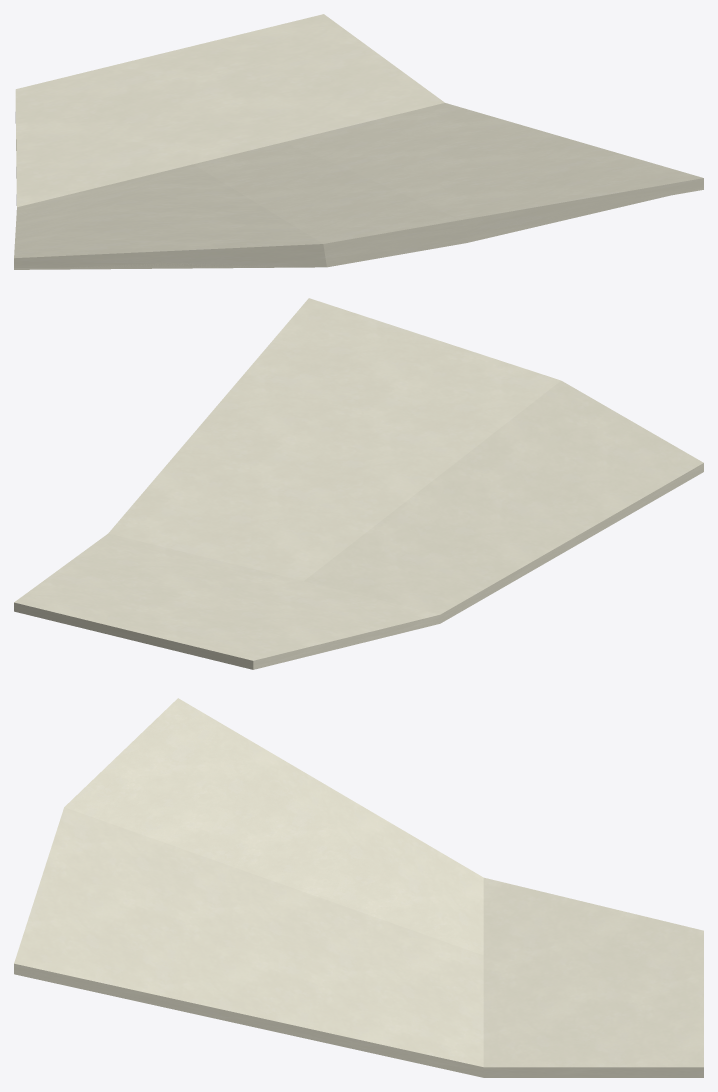
The model's file is idk.fbx.
The picture shows the model from 3 angles, top to bottom: view 1: azimuth 30°, elevation 25°; view 2: azimuth 150°, elevation 25°; view 3: azimuth 270°, elevation 25°; orthographic projection. The views are drawn at different scales.
Visible parts, largest first — view 1: Cube.030; view 2: Cube.030; view 3: Cube.030.
Boxes of the visible parts, bbox=[...] form: Cube.030: bbox=[14, 14, 703, 269]; Cube.030: bbox=[14, 298, 703, 669]; Cube.030: bbox=[14, 698, 703, 1077].
Size of the model in its own units: 539 by 108 by 592.
Materials: 1 (1 with a texture image).
